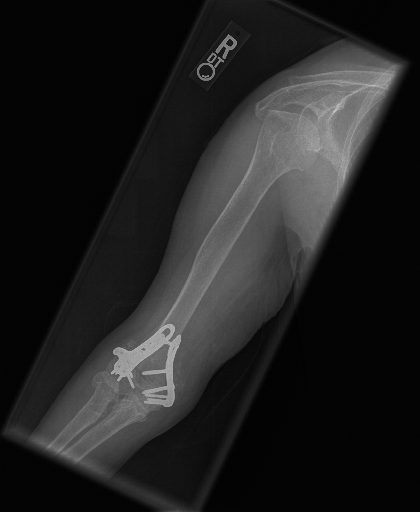implant: (109, 309, 186, 389), (145, 330, 190, 413)
